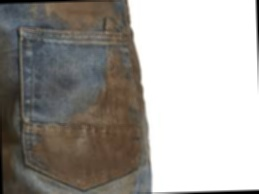earth: (40, 121, 134, 176), (104, 65, 128, 123), (57, 2, 112, 22), (88, 103, 105, 122)
